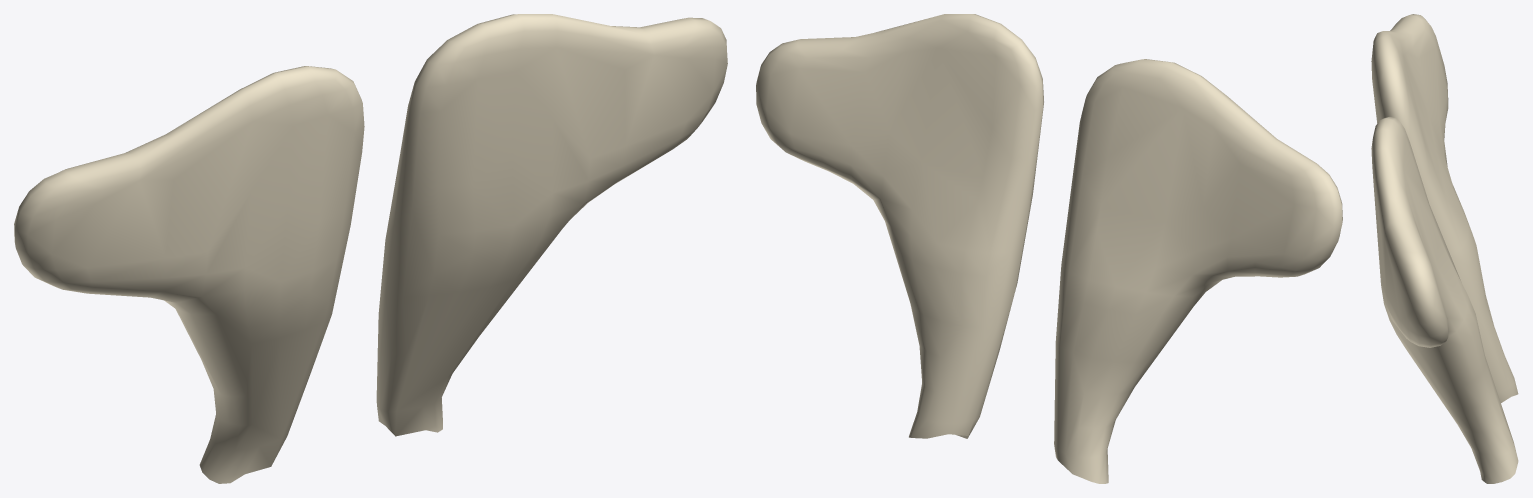
The model's file is esqueleto-sinus-of-frontal-bone.glb.
3 renders of one model, left to right at view 1: azimuth 30°, elevation 25°; view 2: azimuth 150°, elevation 25°; view 3: azimuth 270°, elevation 25°, orthographic. The views are drawn at different scales.
Visible parts, largest first — view 1: Sinus of frontal bone; view 2: Sinus of frontal bone; view 3: Sinus of frontal bone.
Boxes of the visible parts, left/top/right/bottom form: Sinus of frontal bone: left=14, top=14, right=727, bottom=483; Sinus of frontal bone: left=756, top=14, right=1342, bottom=483; Sinus of frontal bone: left=1371, top=14, right=1518, bottom=483.
Bounding box in the file's own units: 0.0504 × 0.0312 × 0.0116.
